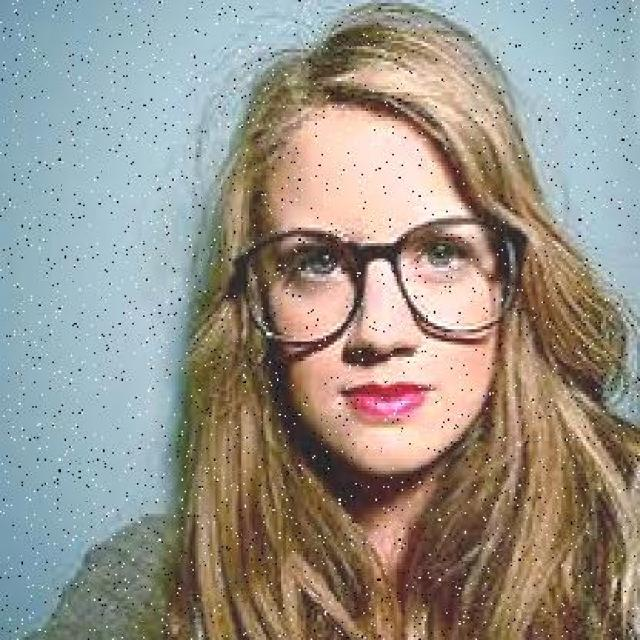glasses: (222, 207, 538, 359)
